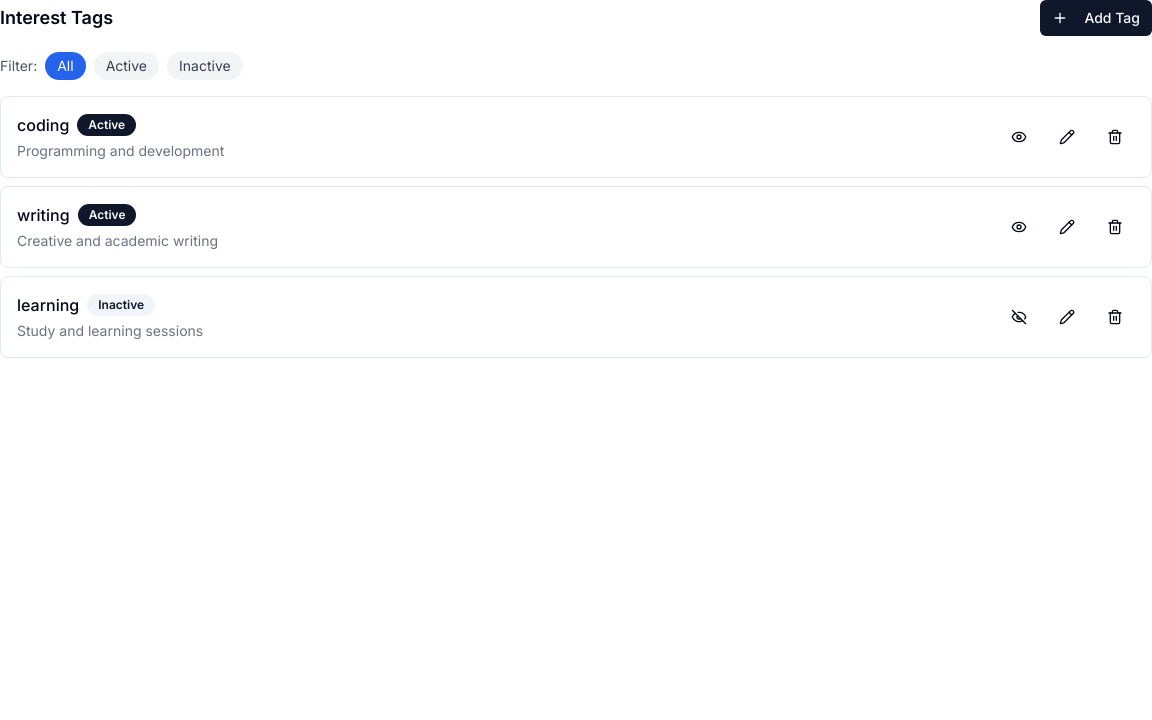
it: InterestTagManager › should open add tag dialog
This screenshot has width=1152, height=720.
Check: the text "coding" is shown, box [17,113,69,137]
Click the button "Add Tag" at (1096,18), box [1040,0,1151,36]
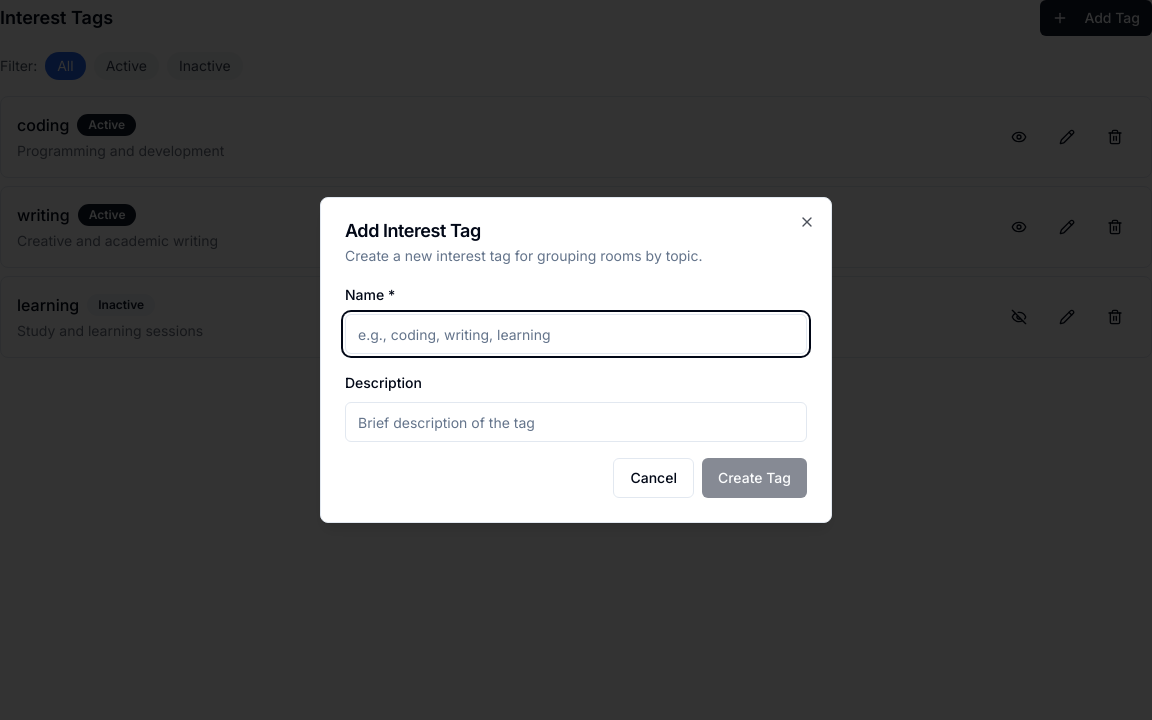
Check: the heading "Add Interest Tag" is shown, box [345,220,481,241]
